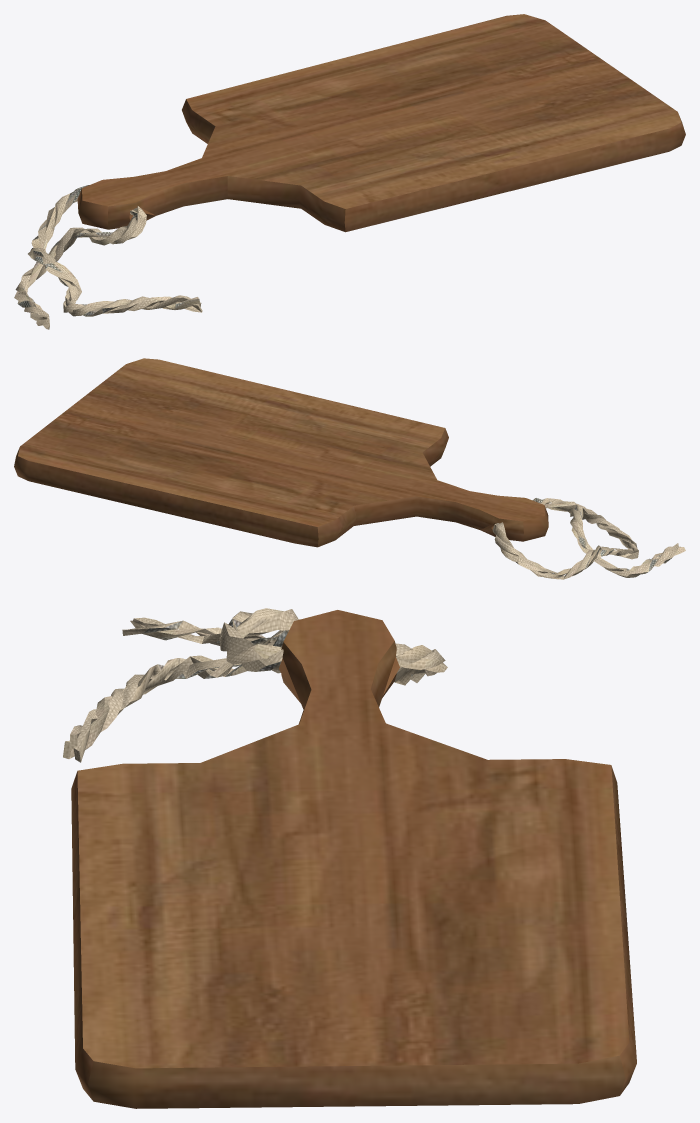
File: SM_CutBoard_2.fbx
3 views of the same model, one above another, from view 1: azimuth 30°, elevation 25°; view 2: azimuth 150°, elevation 25°; view 3: azimuth 270°, elevation 25° (orthographic). The views are drawn at different scales.
Visible parts, largest first — view 1: GDLM1168_GDLM784_mLayer127_63, GDLM1235_GDLM992_mLayer128_185; view 2: GDLM1168_GDLM784_mLayer127_63, GDLM1235_GDLM992_mLayer128_185; view 3: GDLM1168_GDLM784_mLayer127_63, GDLM1235_GDLM992_mLayer128_185.
Boxes of the visible parts, left/top/right/bottom form: GDLM1168_GDLM784_mLayer127_63: left=77, top=14, right=685, bottom=232; GDLM1235_GDLM992_mLayer128_185: left=14, top=185, right=202, bottom=329; GDLM1168_GDLM784_mLayer127_63: left=14, top=358, right=548, bottom=547; GDLM1235_GDLM992_mLayer128_185: left=492, top=498, right=685, bottom=579; GDLM1168_GDLM784_mLayer127_63: left=71, top=610, right=636, bottom=1108; GDLM1235_GDLM992_mLayer128_185: left=63, top=608, right=447, bottom=762.
Size of the model in its own units: 0.5449 by 0.0543 by 0.2406.
Materials: 2 (2 with a texture image).
